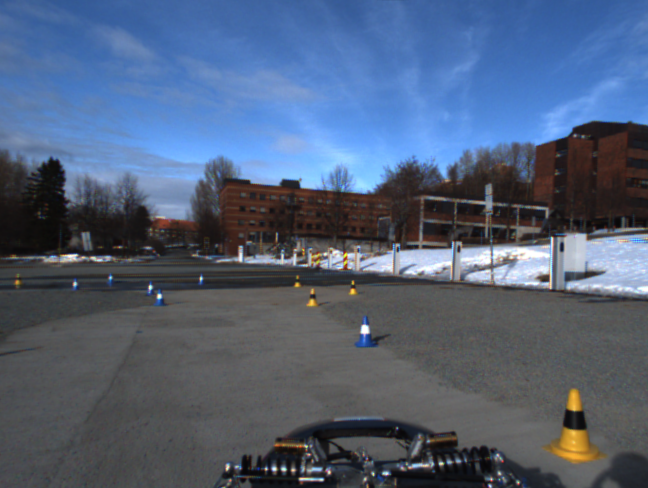cone-small-blue: (354, 316, 378, 347), (155, 289, 165, 307), (71, 278, 80, 292), (147, 282, 155, 296), (196, 274, 206, 285), (107, 273, 114, 286)
cone-small-yellow: (540, 388, 607, 463), (305, 288, 319, 307), (348, 279, 359, 295), (293, 274, 303, 287), (15, 272, 24, 285)
